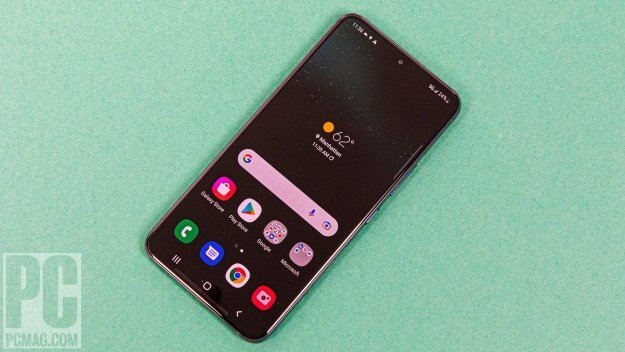phones: (99, 13, 468, 341)
